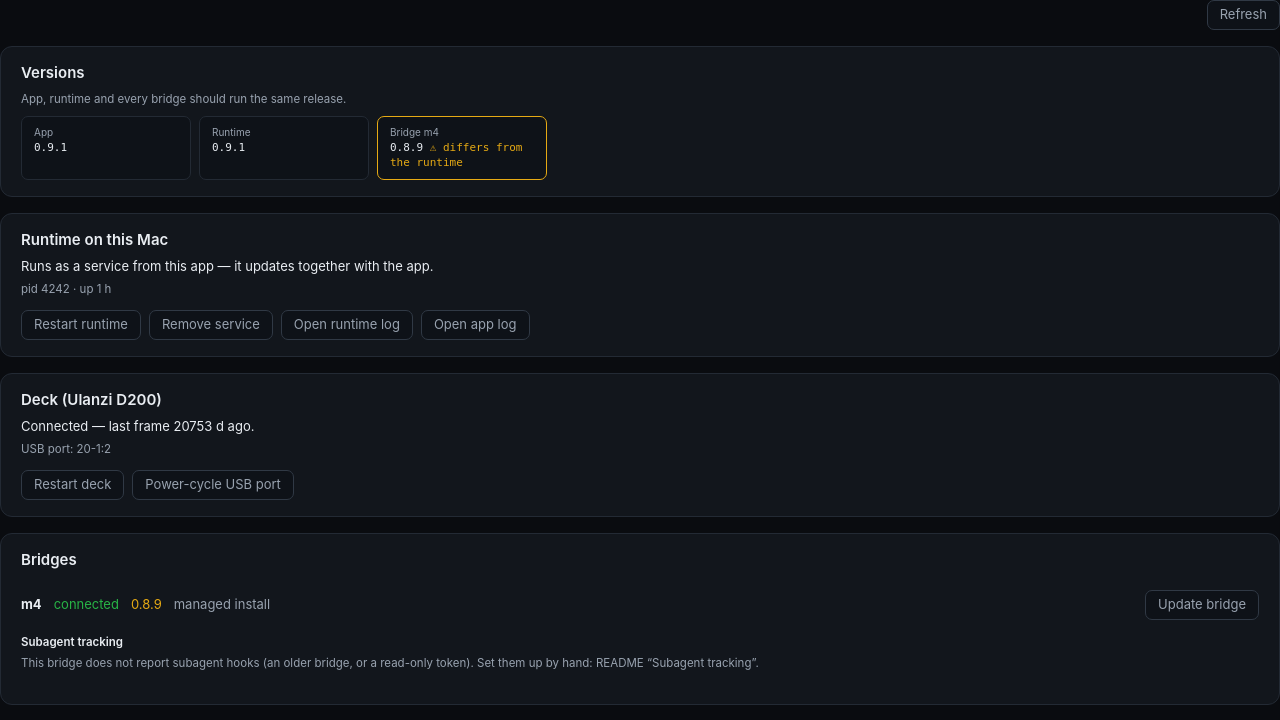
Test: MaintenanceSection › restarts the deck and shows the outcome
What coordinates should you click on to do the following:
click the button "Restart deck"
I would click on:
 (73, 485)
Its box is top-left (21, 470), bottom-right (124, 500).
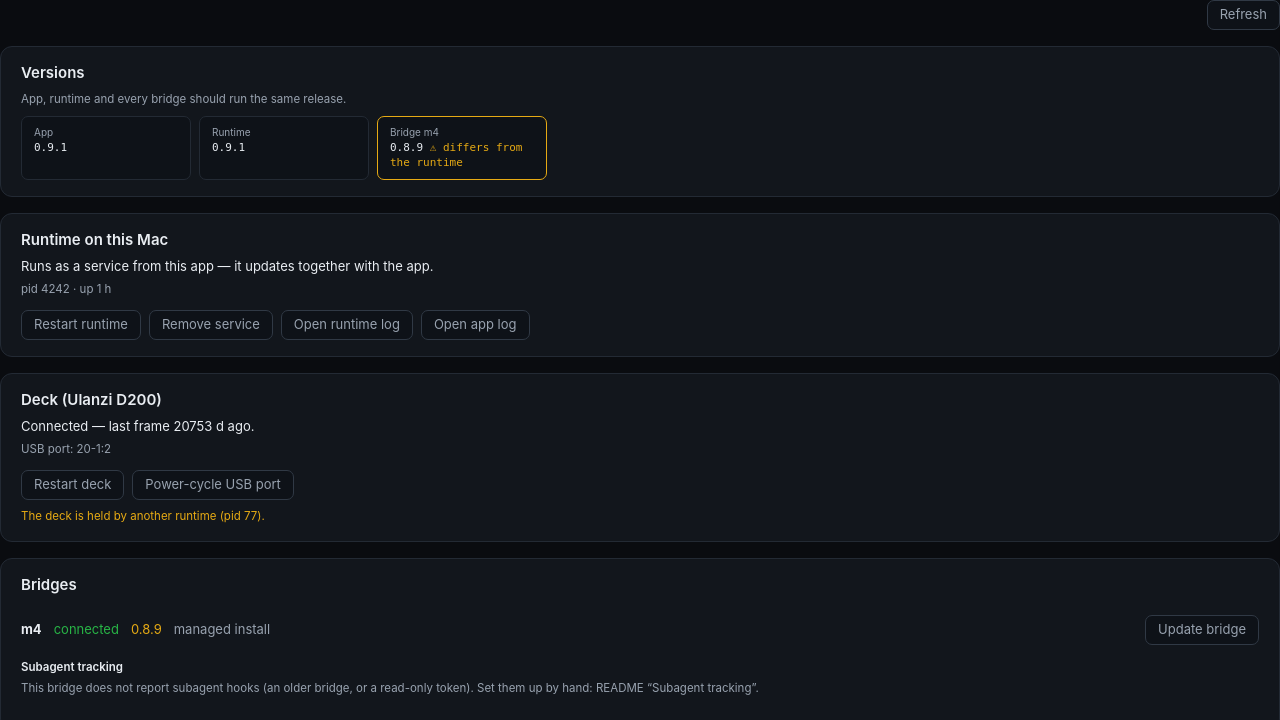
Now the text "The deck is held by another runtime (pid 77)." is shown, box top-left (21, 509), bottom-right (265, 523)
